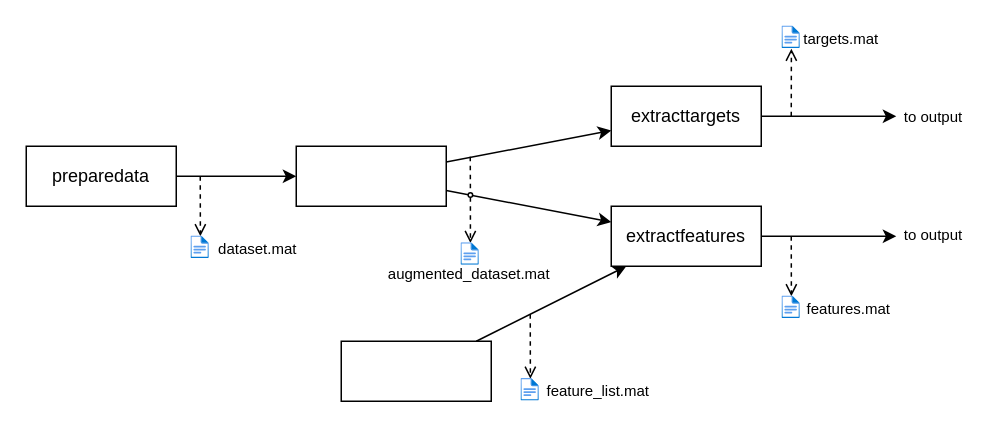
The diagram is 998 pixels wide and 428 high, and some of its shapes have lost their labels. Here are the shapes that lost their labels. From the top down, the centre of each, then its label:
At point (370, 175): "augmentdata".
At point (415, 370): "getfeatures".
